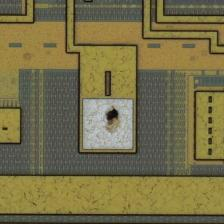PARTICLE: (100, 106, 128, 134)
